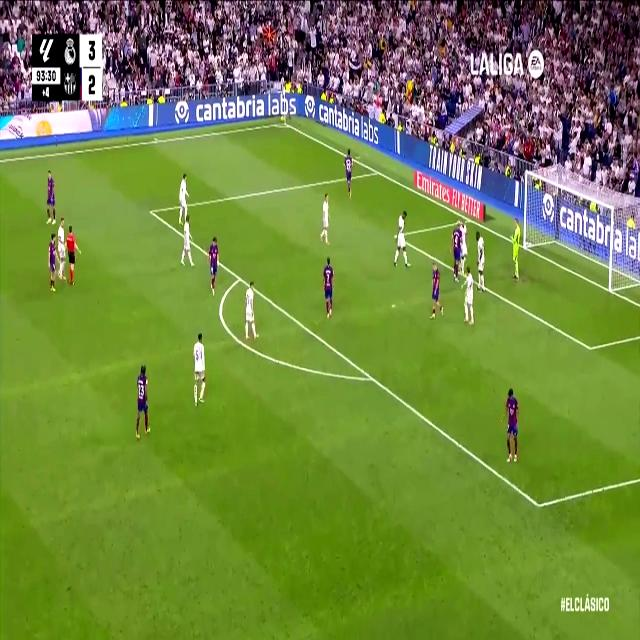bigarea_bottom_inner: (533, 491, 544, 519)
bottom_arc_area_intersection: (366, 366, 376, 388)
corner: (280, 118, 290, 129)
smallarea_bottom_inner: (585, 337, 595, 359)
smallarea_top_inner: (147, 202, 155, 220)
top_arc_area_intersection: (236, 271, 242, 285)
